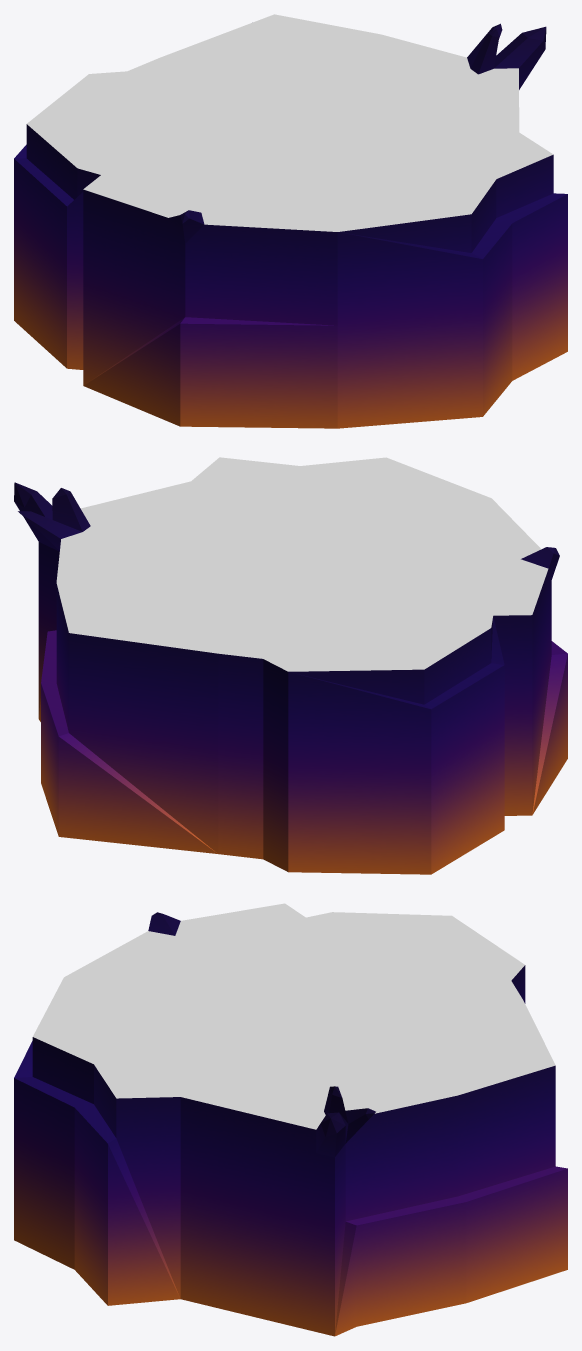
The model's file is MOD_Platform_Midden.fbx.
3 views of the same model, one above another, from view 1: azimuth 30°, elevation 25°; view 2: azimuth 150°, elevation 25°; view 3: azimuth 270°, elevation 25° (orthographic). The views are drawn at different scales.
Parts seen in each view (by area): view 1: MOD_Platform_Midden; view 2: MOD_Platform_Midden; view 3: MOD_Platform_Midden.
Part boxes in pixels (x1,y1,x2,y2): MOD_Platform_Midden: [14, 14, 567, 428]; MOD_Platform_Midden: [14, 457, 567, 874]; MOD_Platform_Midden: [14, 903, 567, 1336].
Size of the model in its own units: 7.34 by 3.36 by 7.05.
